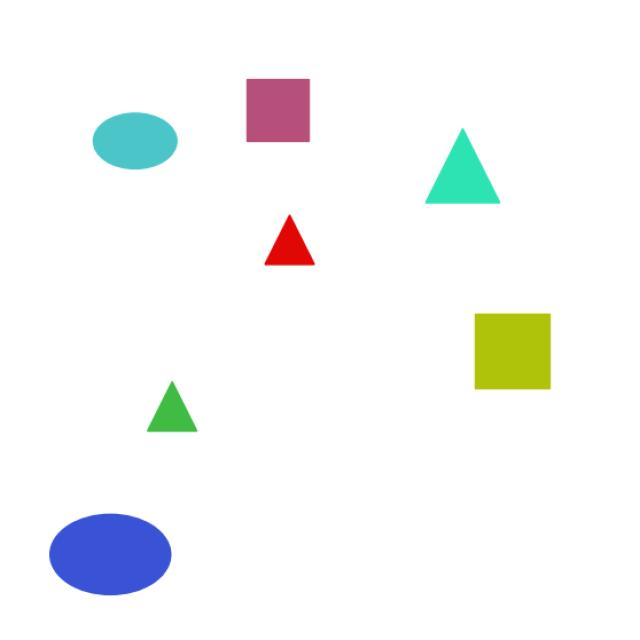Circle: (414, 113, 528, 225), (241, 199, 337, 295), (129, 361, 212, 454)
Oval: (36, 490, 196, 600), (86, 110, 186, 178)
square: (464, 295, 575, 412), (220, 74, 332, 160)
